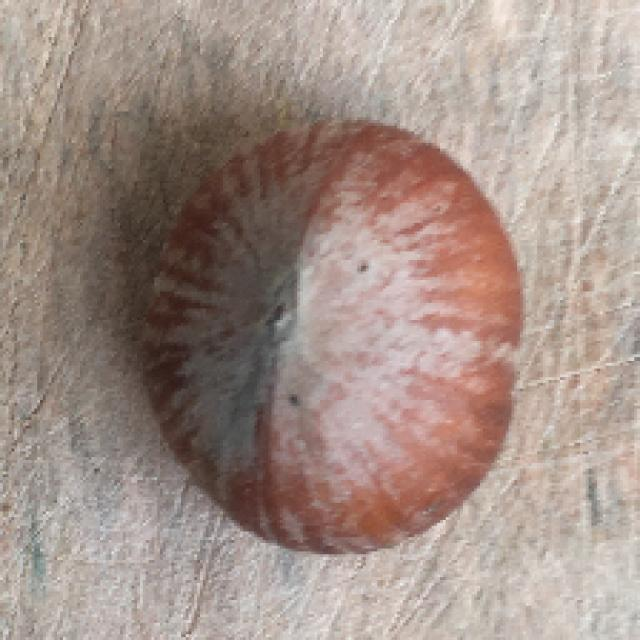qualityHazelnut: (145, 121, 528, 554)
